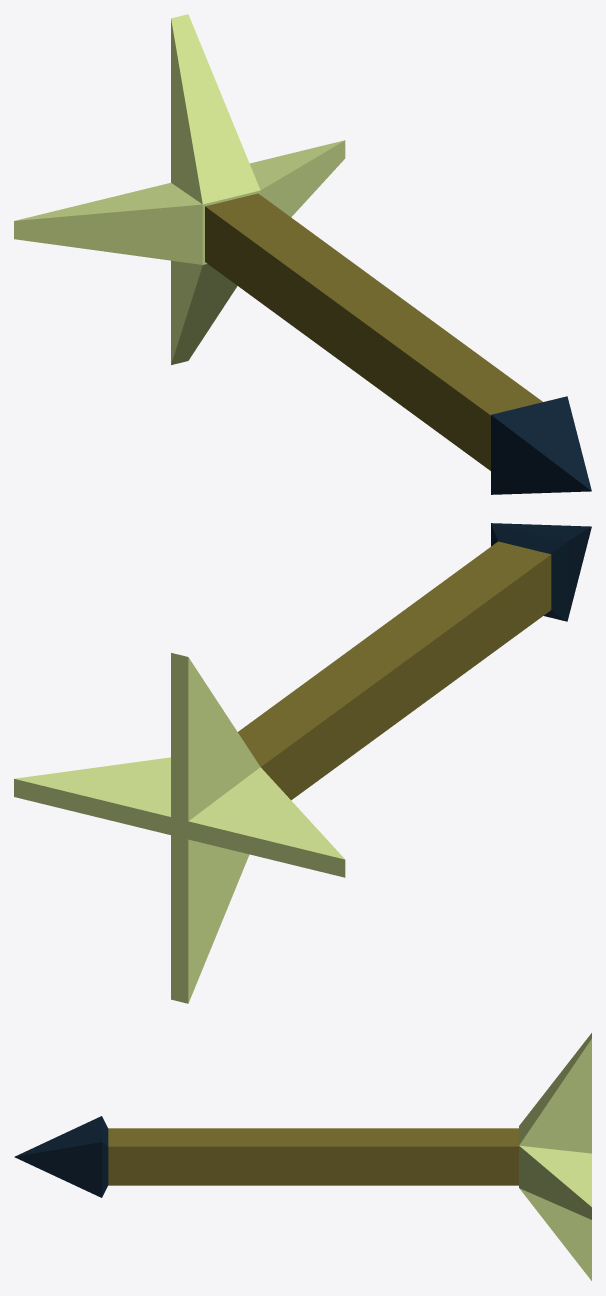
File: Arrow.glb
3 renders of one model, top to bottom at view 1: azimuth 30°, elevation 25°; view 2: azimuth 150°, elevation 25°; view 3: azimuth 270°, elevation 25°, orthographic. The views are drawn at different scales.
Parts seen in each view (by area): view 1: Cube; view 2: Cube; view 3: Cube.
Boxes of the visible parts, <box> form: Cube: <box>14,14,591,494</box>; Cube: <box>14,523,591,1003</box>; Cube: <box>14,1033,591,1280</box>.
Bounding box in the file's own units: 1.46 × 1.46 × 3.14.
